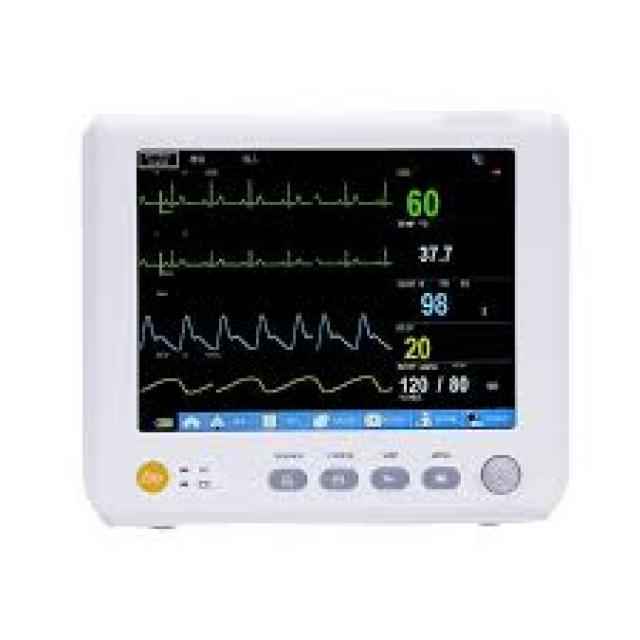Monitor: (80, 108, 569, 526)
